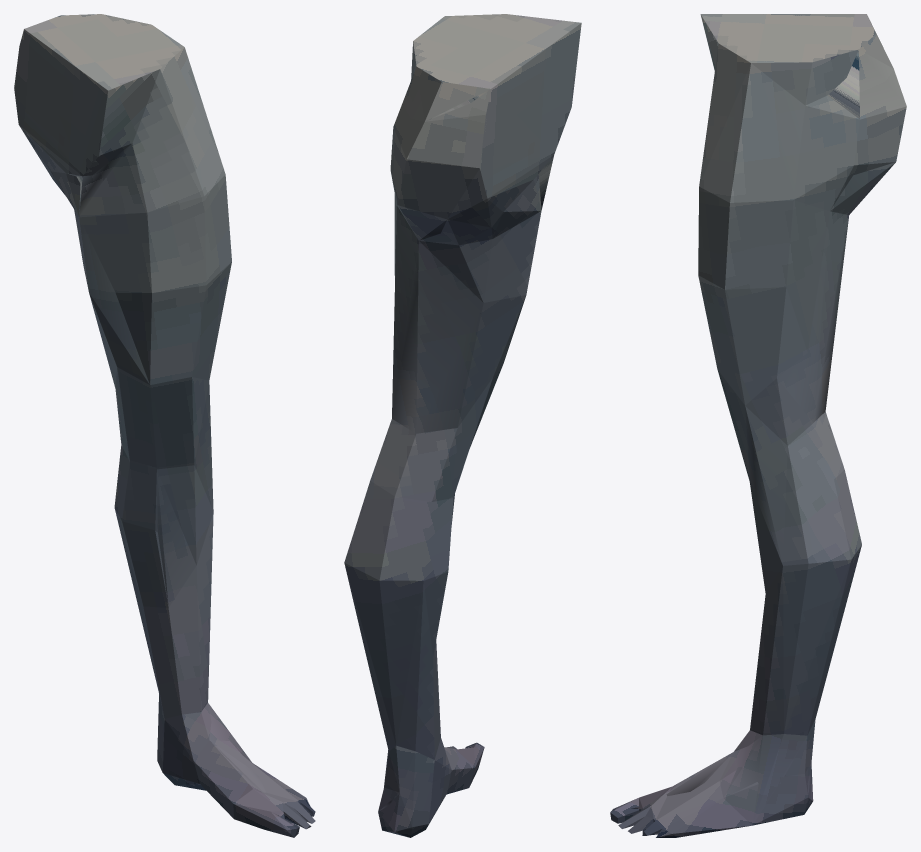
The model's file is item_mannequin_leg_left.glb.
3 renders of one model, left to right at view 1: azimuth 30°, elevation 25°; view 2: azimuth 150°, elevation 25°; view 3: azimuth 270°, elevation 25°, orthographic. The views are drawn at different scales.
Parts seen in each view (by area): view 1: legs; view 2: legs; view 3: legs.
Part boxes in pixels (x1=…): legs: x1=14, y1=14, x2=315, y2=837; legs: x1=344, y1=14, x2=581, y2=837; legs: x1=610, y1=14, x2=906, y2=837.
Size of the model in its own units: 0.2897 by 1.12 by 0.4087.
Materials: 1 (1 with a texture image).
